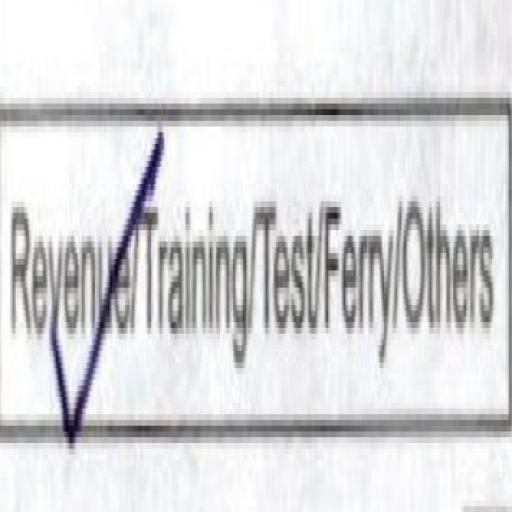check: (4, 38, 132, 456)
